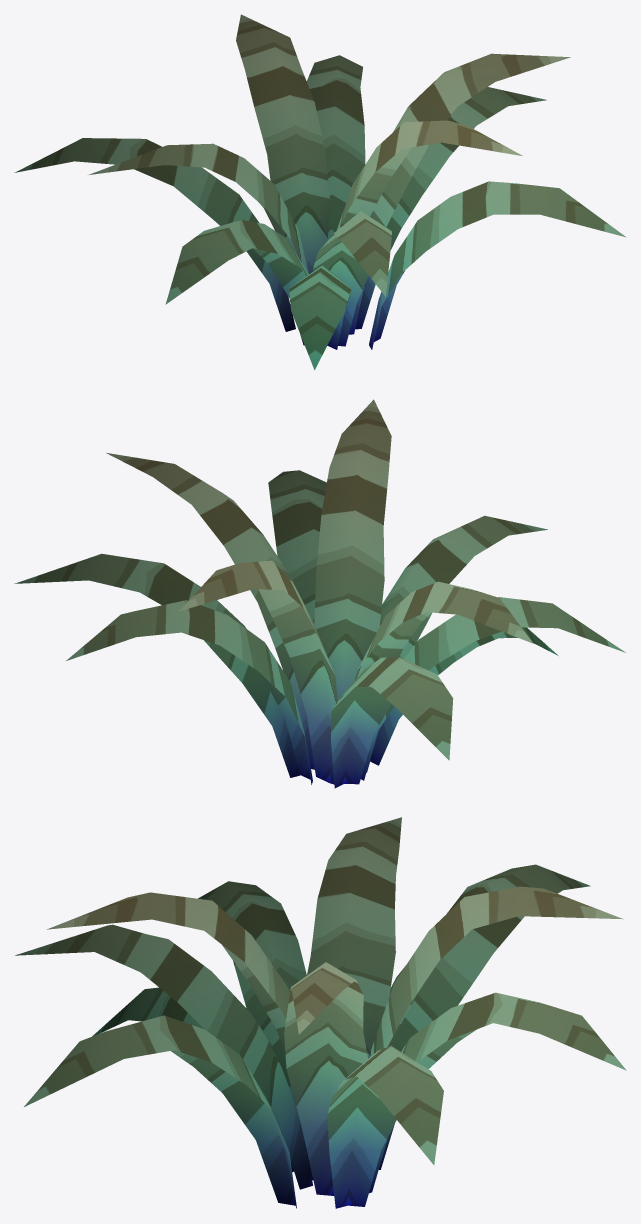
File: trp_fern2.glb
The picture shows the model from 3 angles, top to bottom: view 1: azimuth 30°, elevation 25°; view 2: azimuth 150°, elevation 25°; view 3: azimuth 270°, elevation 25°; orthographic projection. The views are drawn at different scales.
Parts seen in each view (by area): view 1: SM_Env_Fern_02_LOD0; view 2: SM_Env_Fern_02_LOD0; view 3: SM_Env_Fern_02_LOD0.
Boxes of the visible parts, box(x1,y1,x2,y2) form: SM_Env_Fern_02_LOD0: box(14, 14, 626, 370); SM_Env_Fern_02_LOD0: box(14, 399, 625, 788); SM_Env_Fern_02_LOD0: box(15, 817, 626, 1208).
Size of what is drawn, in the model's own units: 3.01 by 1.58 by 2.7.
1 material, 1 textured.
